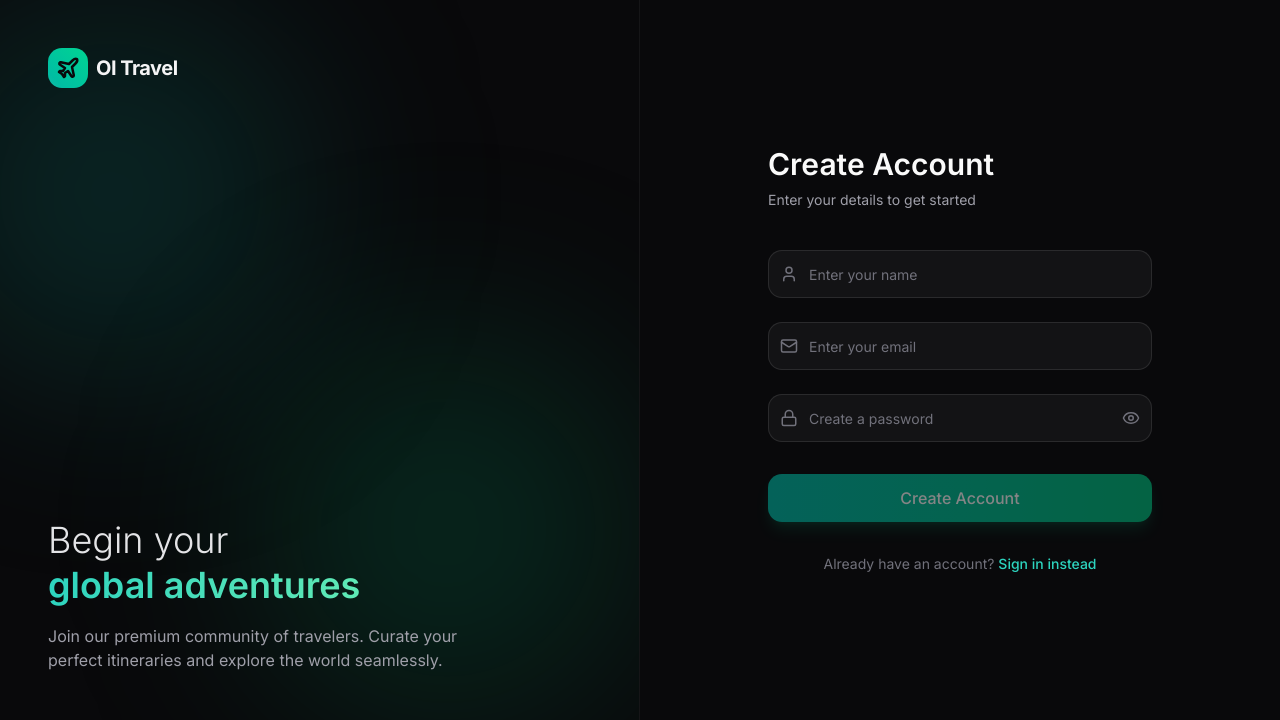
Test: SignupPage › disables the submit button if inputs are empty
Expected: the button with test id "signup-submit-button" is disabled, [768,474,1152,522]
Note: Fill name, still disabled
Type "John" into the field with test id "signup-name-input".
click(960, 274); type("John")  # box [768,250,1152,298]
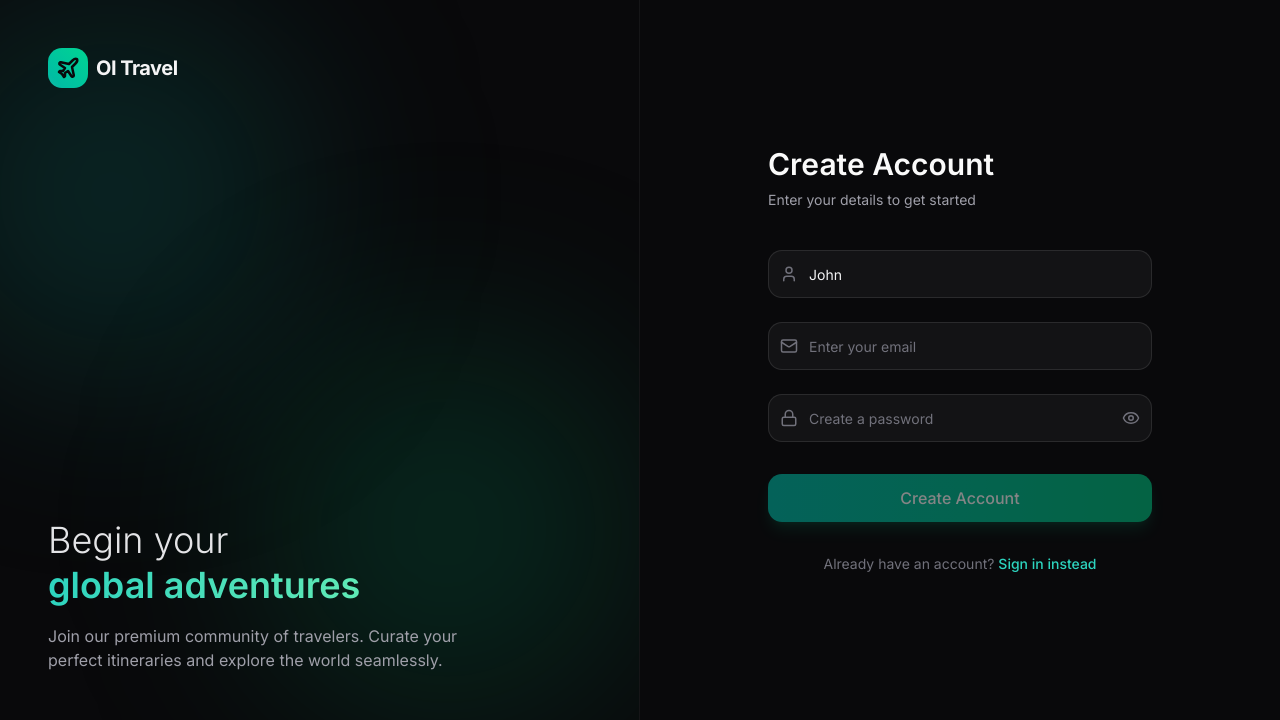
Expected: the button with test id "signup-submit-button" is disabled, [768,474,1152,522]
Note: Fill email, still disabled
Type "test@example.com" into the field with test id "signup-email-input".
click(960, 346); type("test@example.com")  # box [768,322,1152,370]
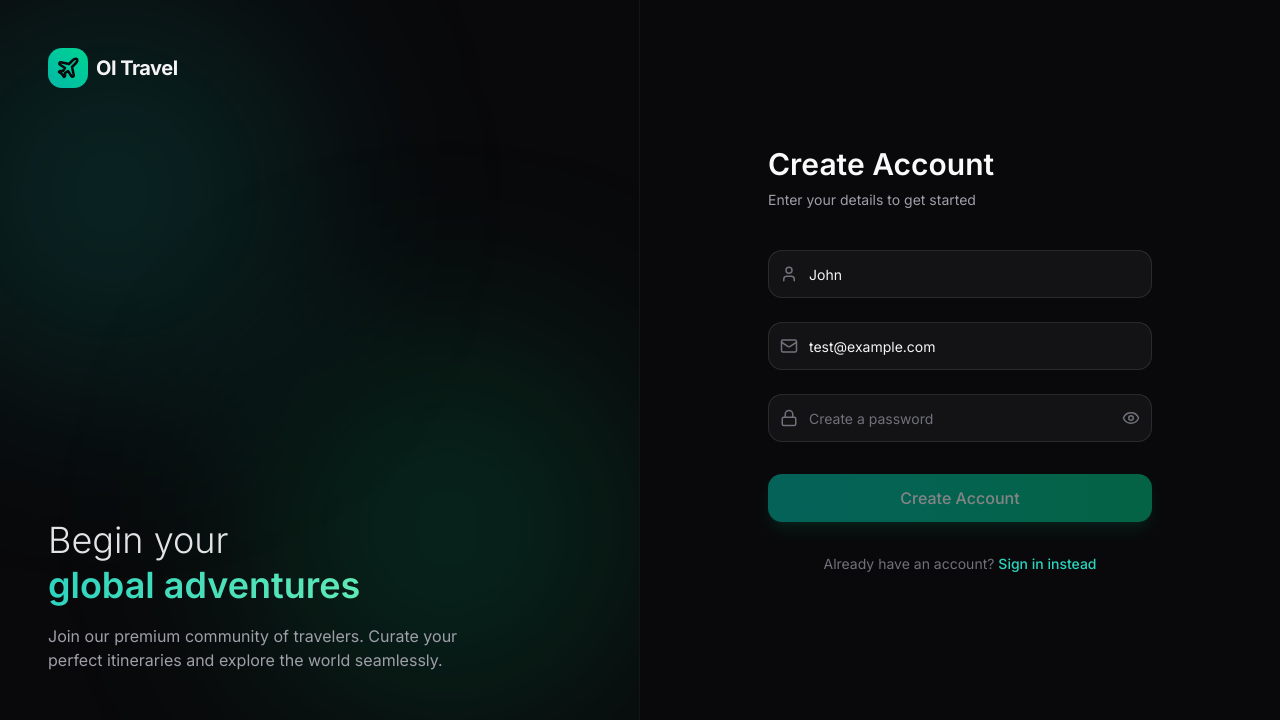
Expected: the button with test id "signup-submit-button" is disabled, [768,474,1152,522]
Note: Fill all, should be enabled
Type "password123" into the password field with test id "signup-password-input".
click(960, 418); type("password123")  # box [768,394,1152,442]
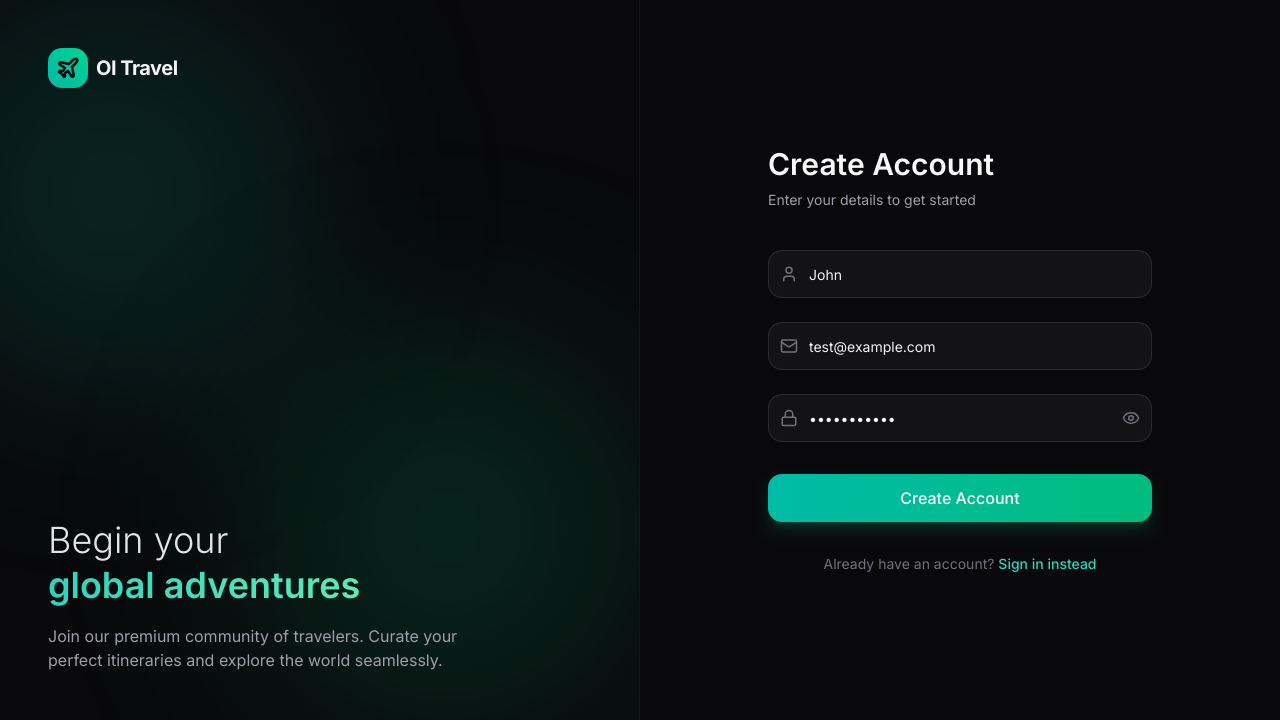
Expected: the button with test id "signup-submit-button" is enabled, [768,474,1152,522]
